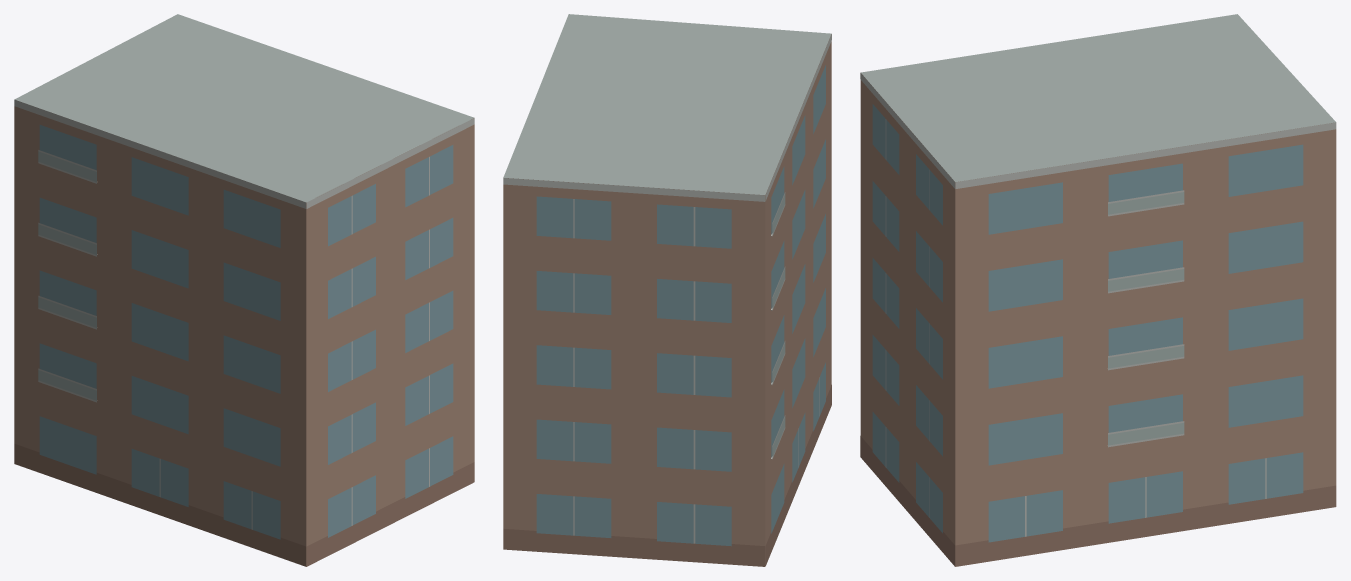
The model's file is survey-upis-32857770.glb.
3 views of the same model, side by side, from view 1: azimuth 30°, elevation 25°; view 2: azimuth 150°, elevation 25°; view 3: azimuth 270°, elevation 25° (orthographic). The views are drawn at different scales.
Visible parts, largest first — view 1: survey-upis-32857770.tmp; view 2: survey-upis-32857770.tmp; view 3: survey-upis-32857770.tmp.
Boxes of the visible parts, x1=… form: survey-upis-32857770.tmp: x1=14, y1=14, x2=474, y2=566; survey-upis-32857770.tmp: x1=503, y1=14, x2=831, y2=566; survey-upis-32857770.tmp: x1=860, y1=14, x2=1336, y2=566.
Bounding box in the file's own units: 12.58 × 13.4 × 15.03.
